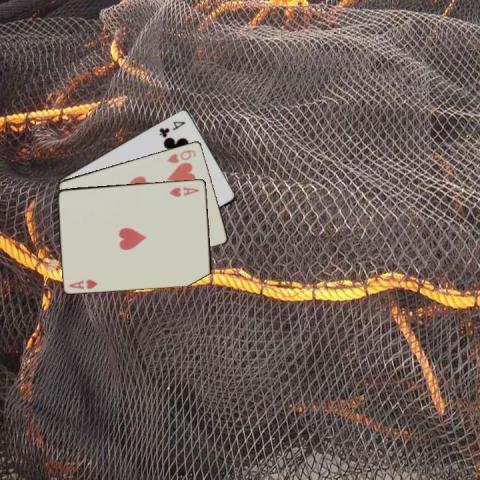4c: (156, 118, 187, 139)
6h: (164, 146, 197, 164)
Ah: (66, 276, 99, 291), (166, 184, 201, 198)
